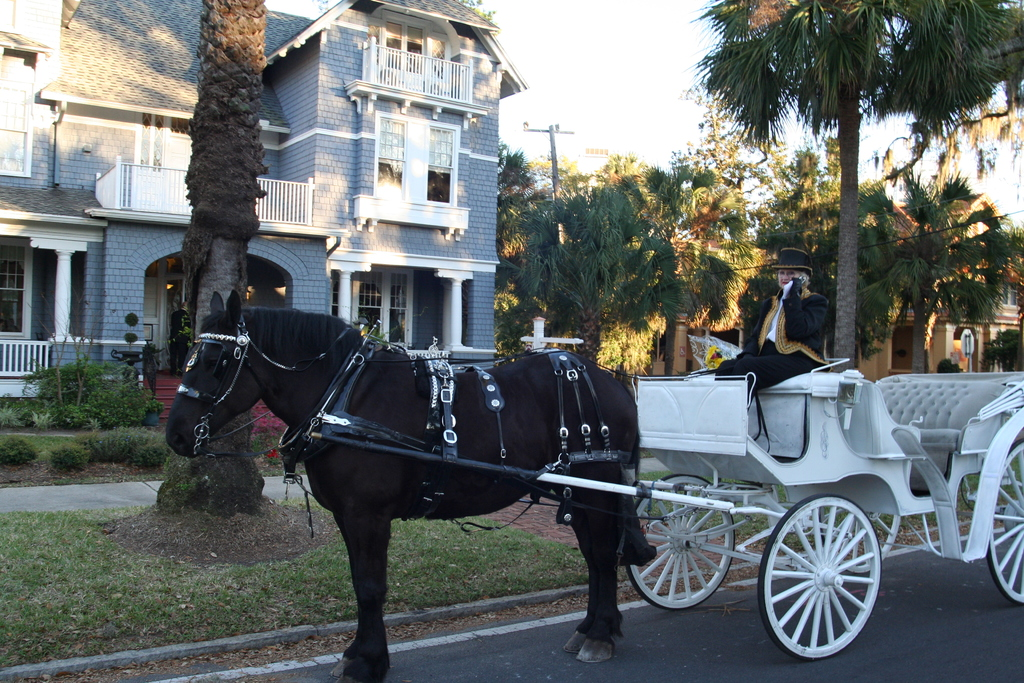Person: (713, 246, 829, 412)
